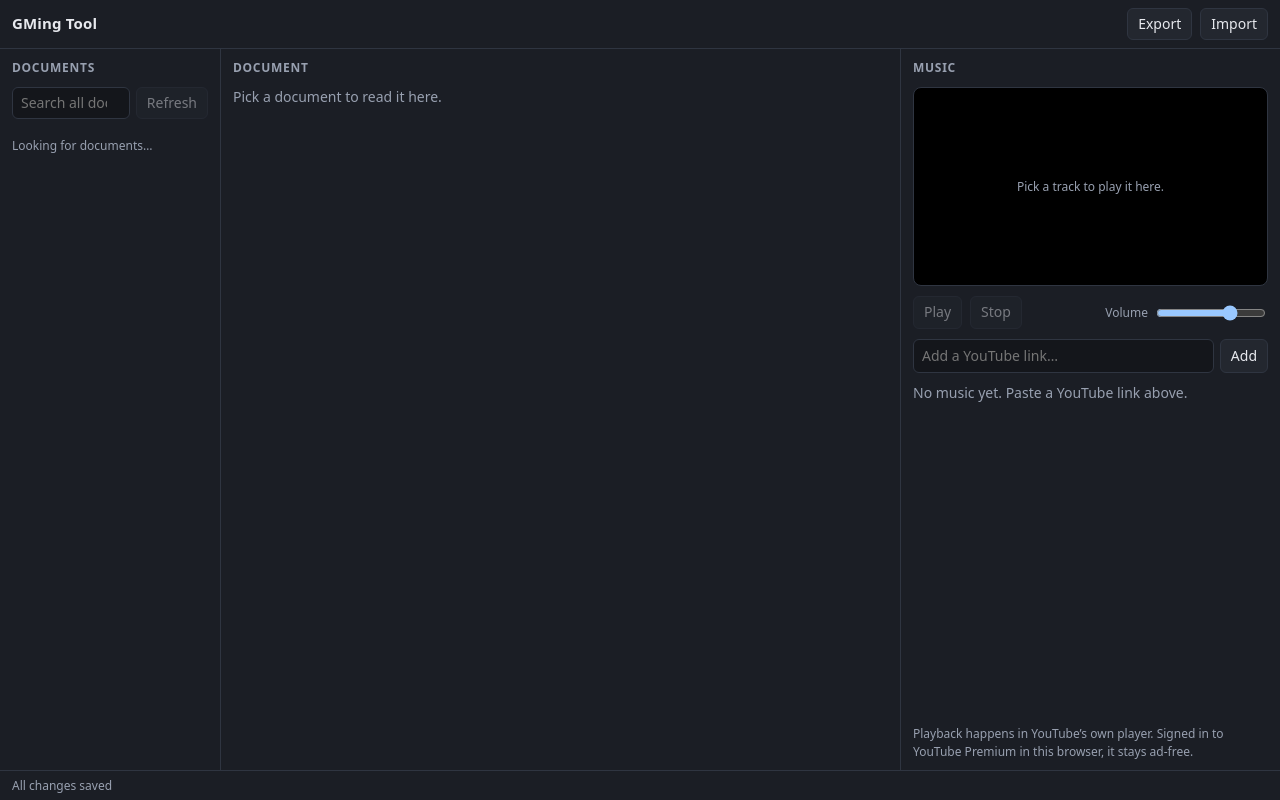
the GMing tool › remembers where a track is, and shows it
The width and height of the screenshot is (1280, 800).
In the field labelled "YouTube link": (1063, 356) [913,339,1214,373], type "https://youtu.be/dQw4w9WgXcQ"
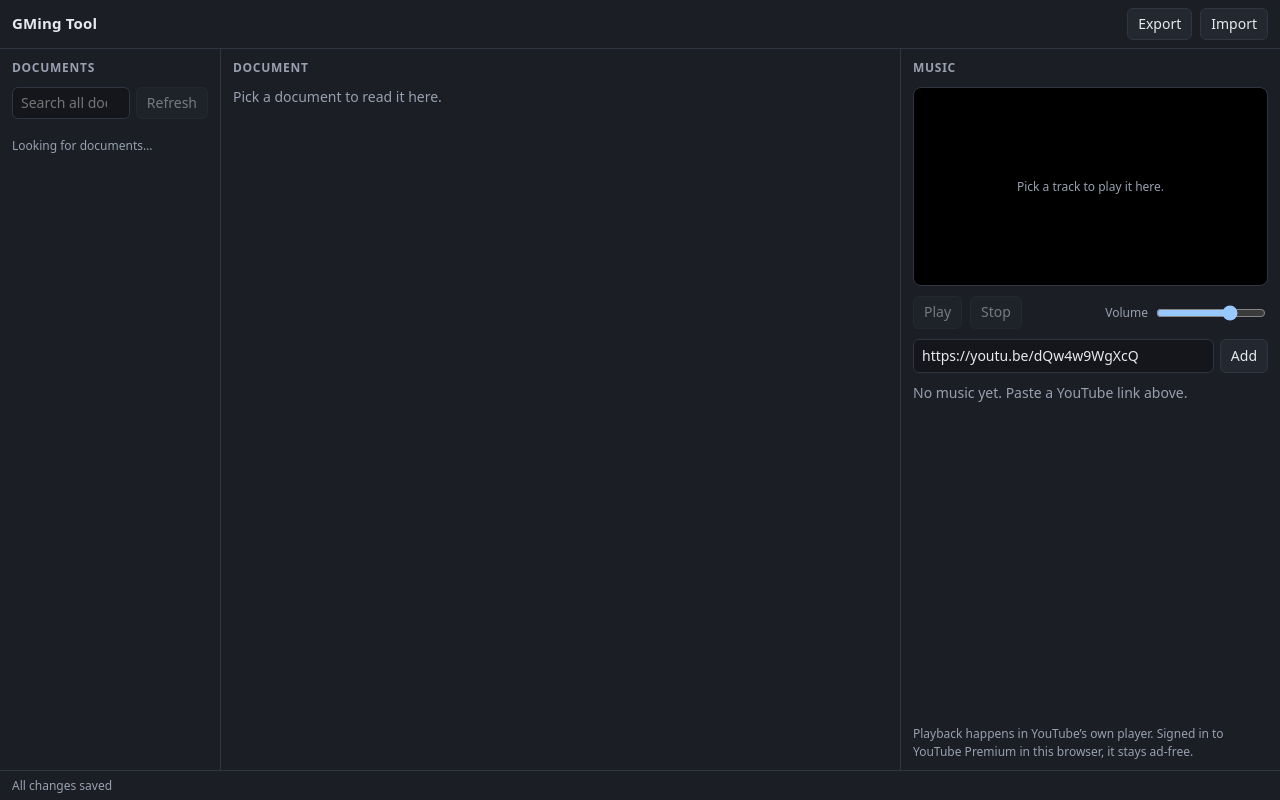
Click the button "Add": (1244, 356) [1220,339,1268,373]
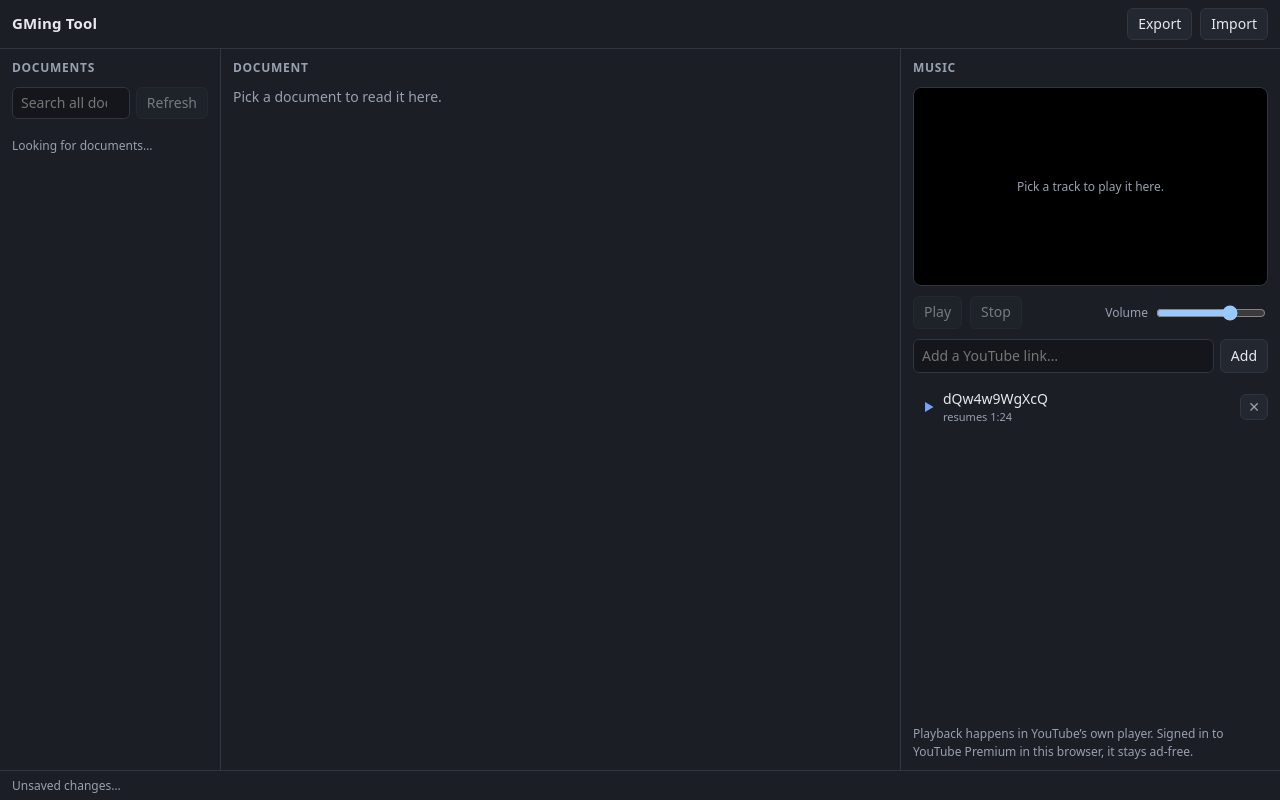
Expected: the text "resumes 1:24" is shown, [943,409,1012,424]
